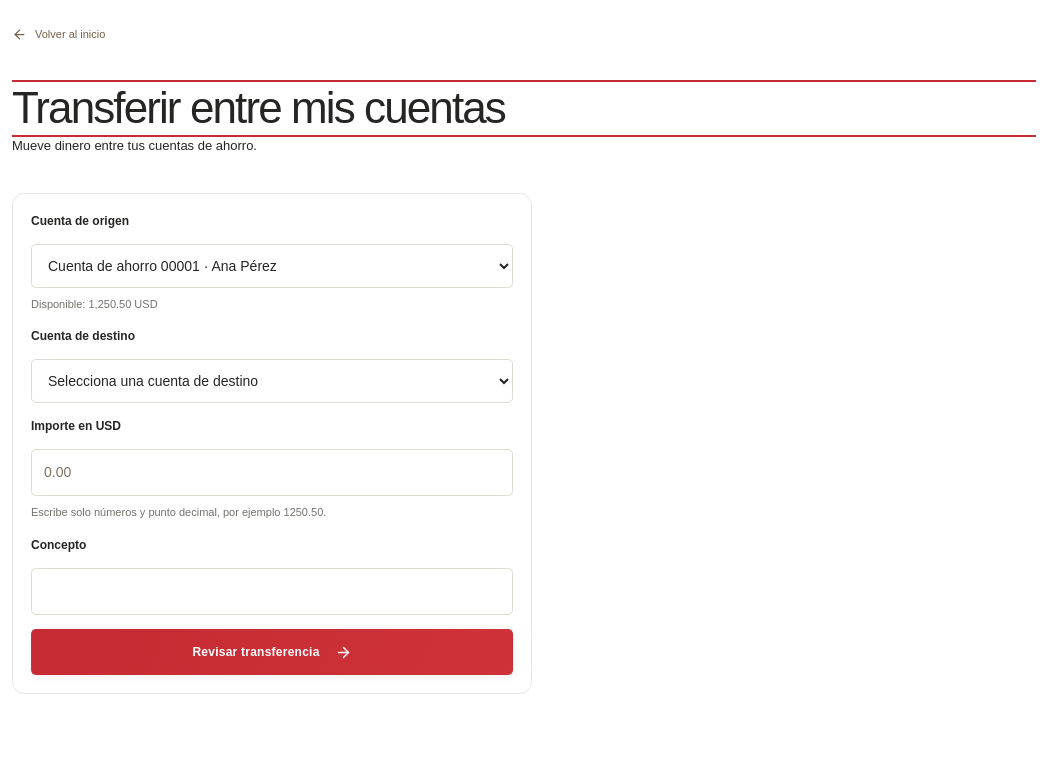
Test: CustomerTransfer: the form › refuses a decimal comma before anything is sent, and puts the focus on the field
Select "Cuenta de ahorro 00002 · Ana Pérez" in the dropdown labelled "Cuenta de destino": (272, 382) [31,360,513,404]
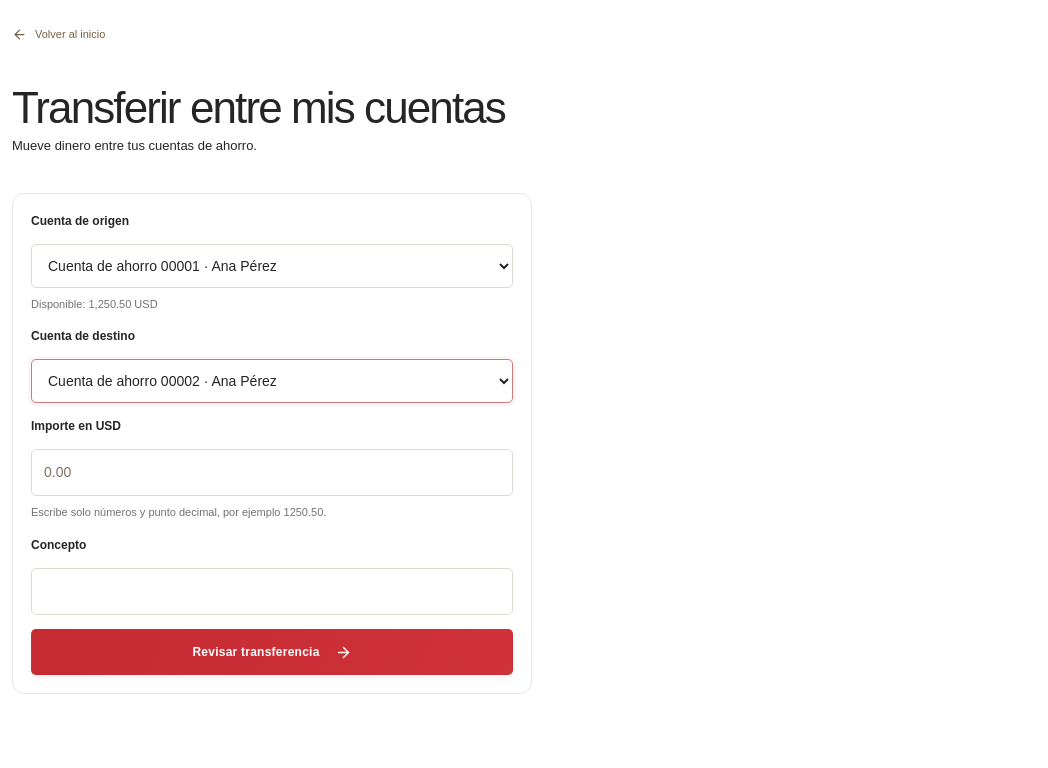
In the field labelled "Importe en USD": (272, 473) [31,450,513,496], type "1,5"
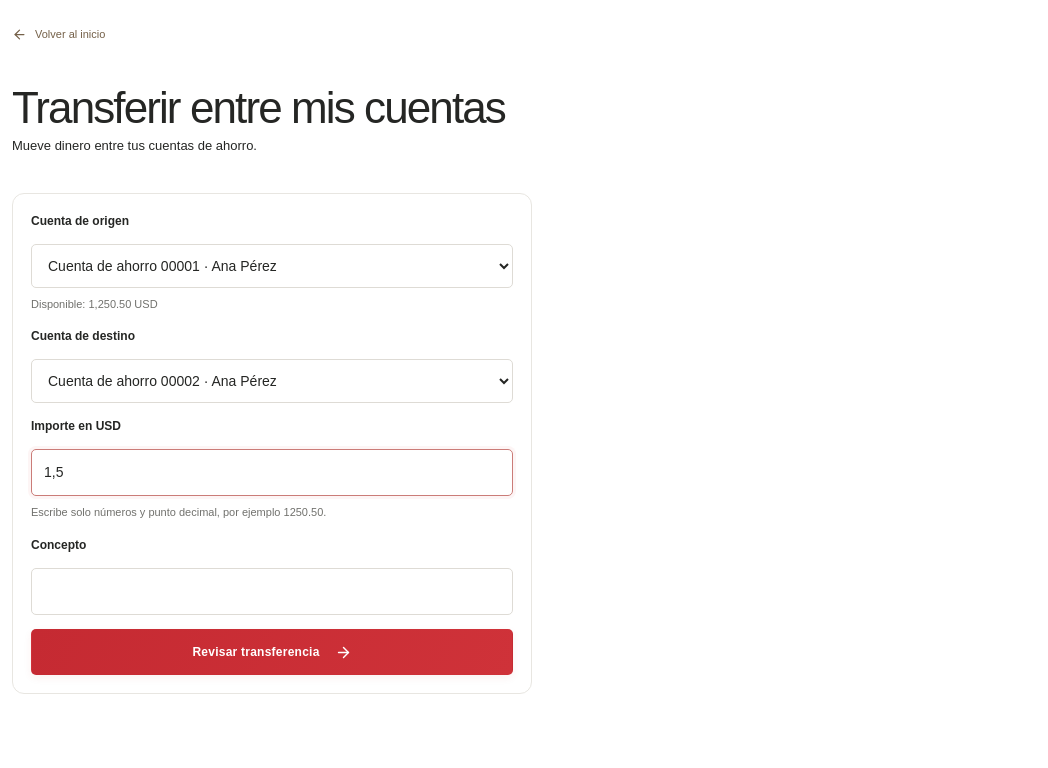
In the field labelled "Concepto": (272, 592) [31,568,513,615], type "Renta"
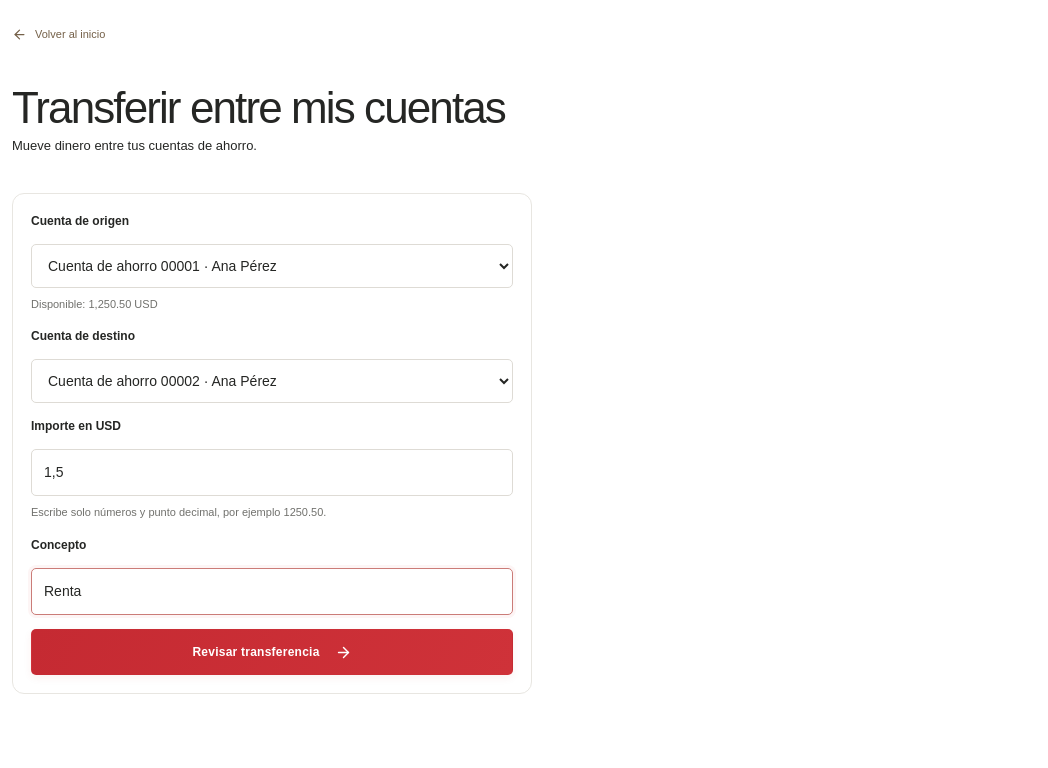
Click the button "Revisar transferencia": (272, 652) [31,629,513,675]
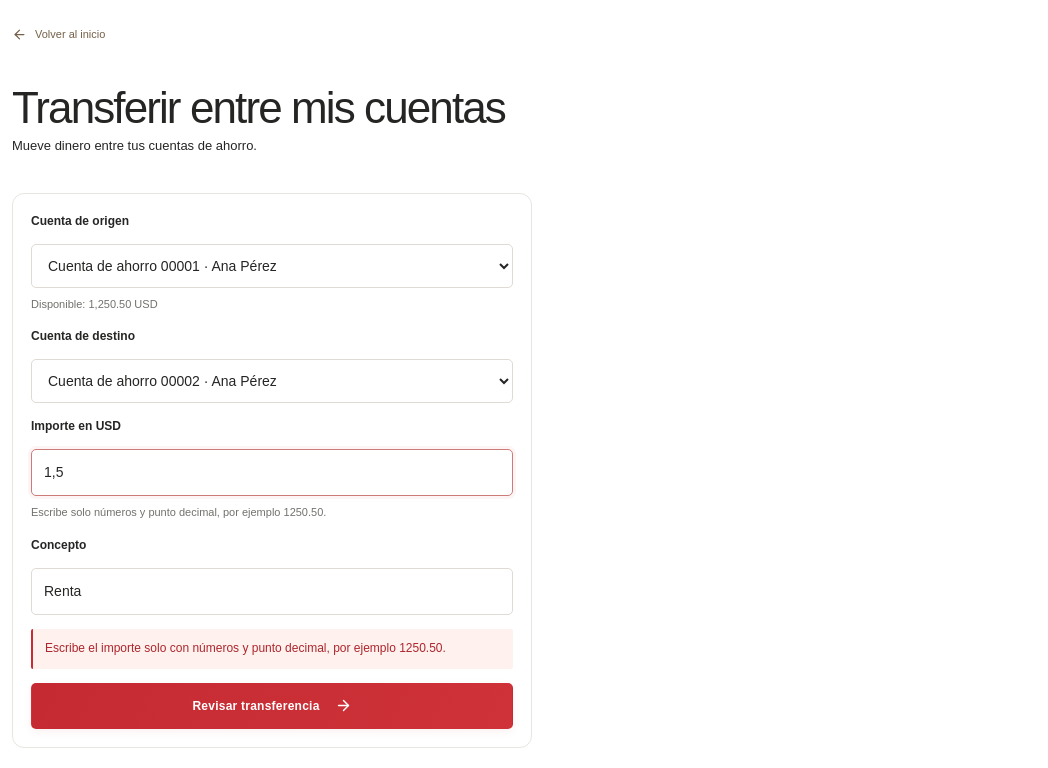
Result: the message shows "solo con números y punto decimal" at [45,641,446,655]
